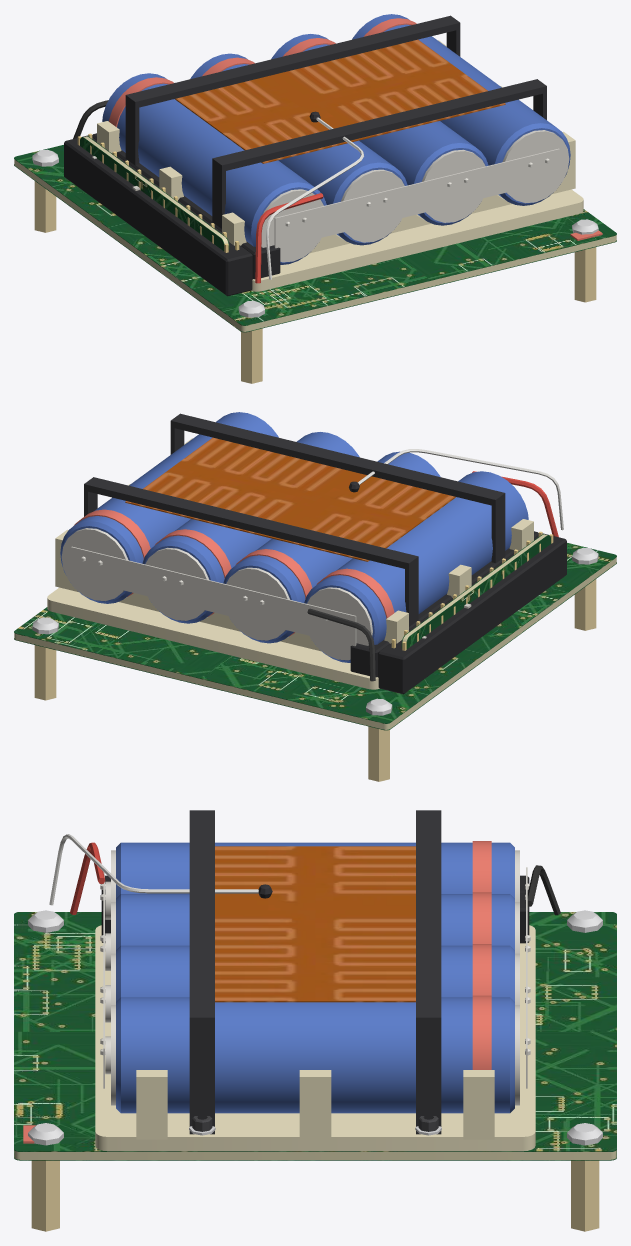
Rendered from battery_pack.glb.
3 views of the same model, one above another, from view 1: azimuth 30°, elevation 25°; view 2: azimuth 150°, elevation 25°; view 3: azimuth 270°, elevation 25° (orthographic). The views are drawn at different scales.
Parts seen in each view (by area): view 1: battery_pack, cells, protection_board; view 2: battery_pack, cells, protection_board; view 3: battery_pack, cells.
Part boxes in pixels (x1,y1,x2,y2): battery_pack: (14, 15, 616, 383); cells: (102, 14, 570, 264); protection_board: (80, 136, 229, 250); battery_pack: (14, 413, 616, 781); cells: (60, 412, 528, 662); protection_board: (401, 534, 550, 648); battery_pack: (14, 810, 616, 1231); cells: (105, 841, 519, 1113).
Size of the model in its own units: 0.0917 by 0.0388 by 0.0959.
Materials: 19 (2 with a texture image).
